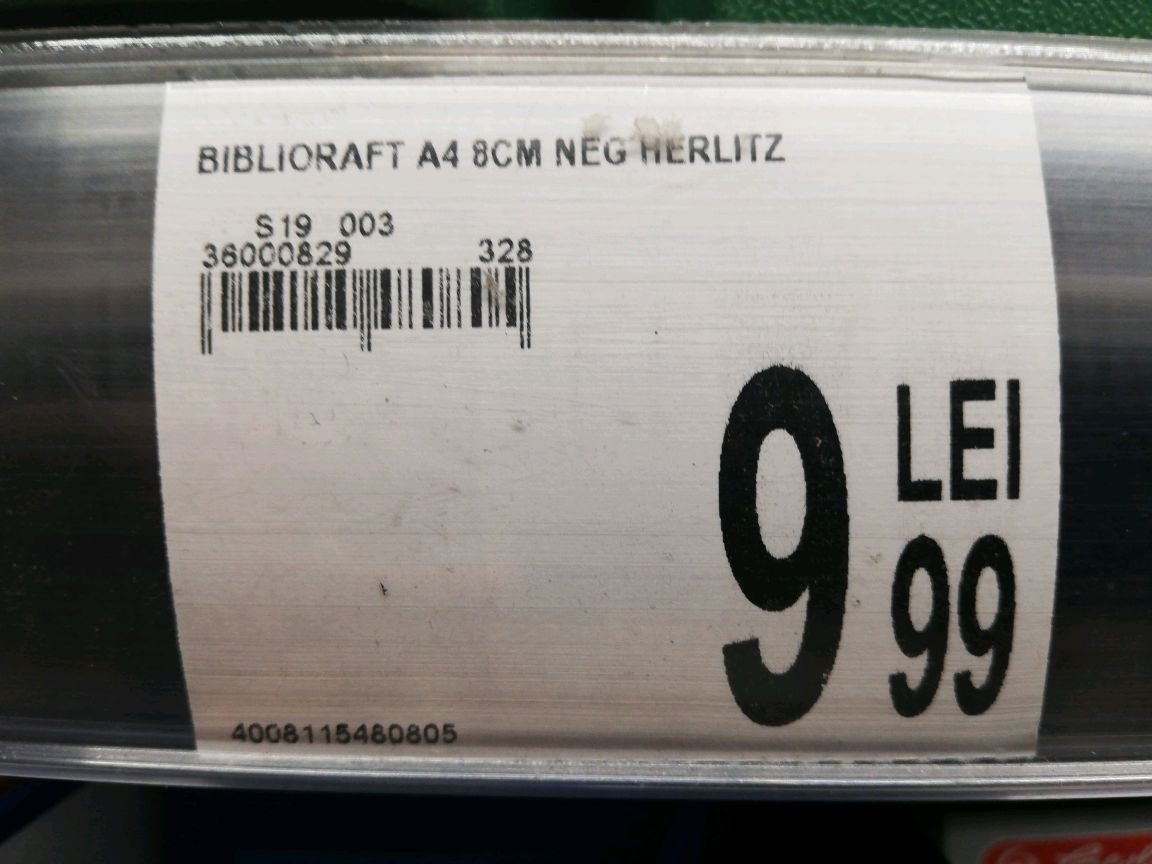price_bani: (873, 527, 1023, 725)
price_lei: (689, 350, 857, 739)
price_tag: (125, 62, 1093, 779)
product_id: (224, 710, 469, 755)
product_name: (184, 129, 799, 191)
